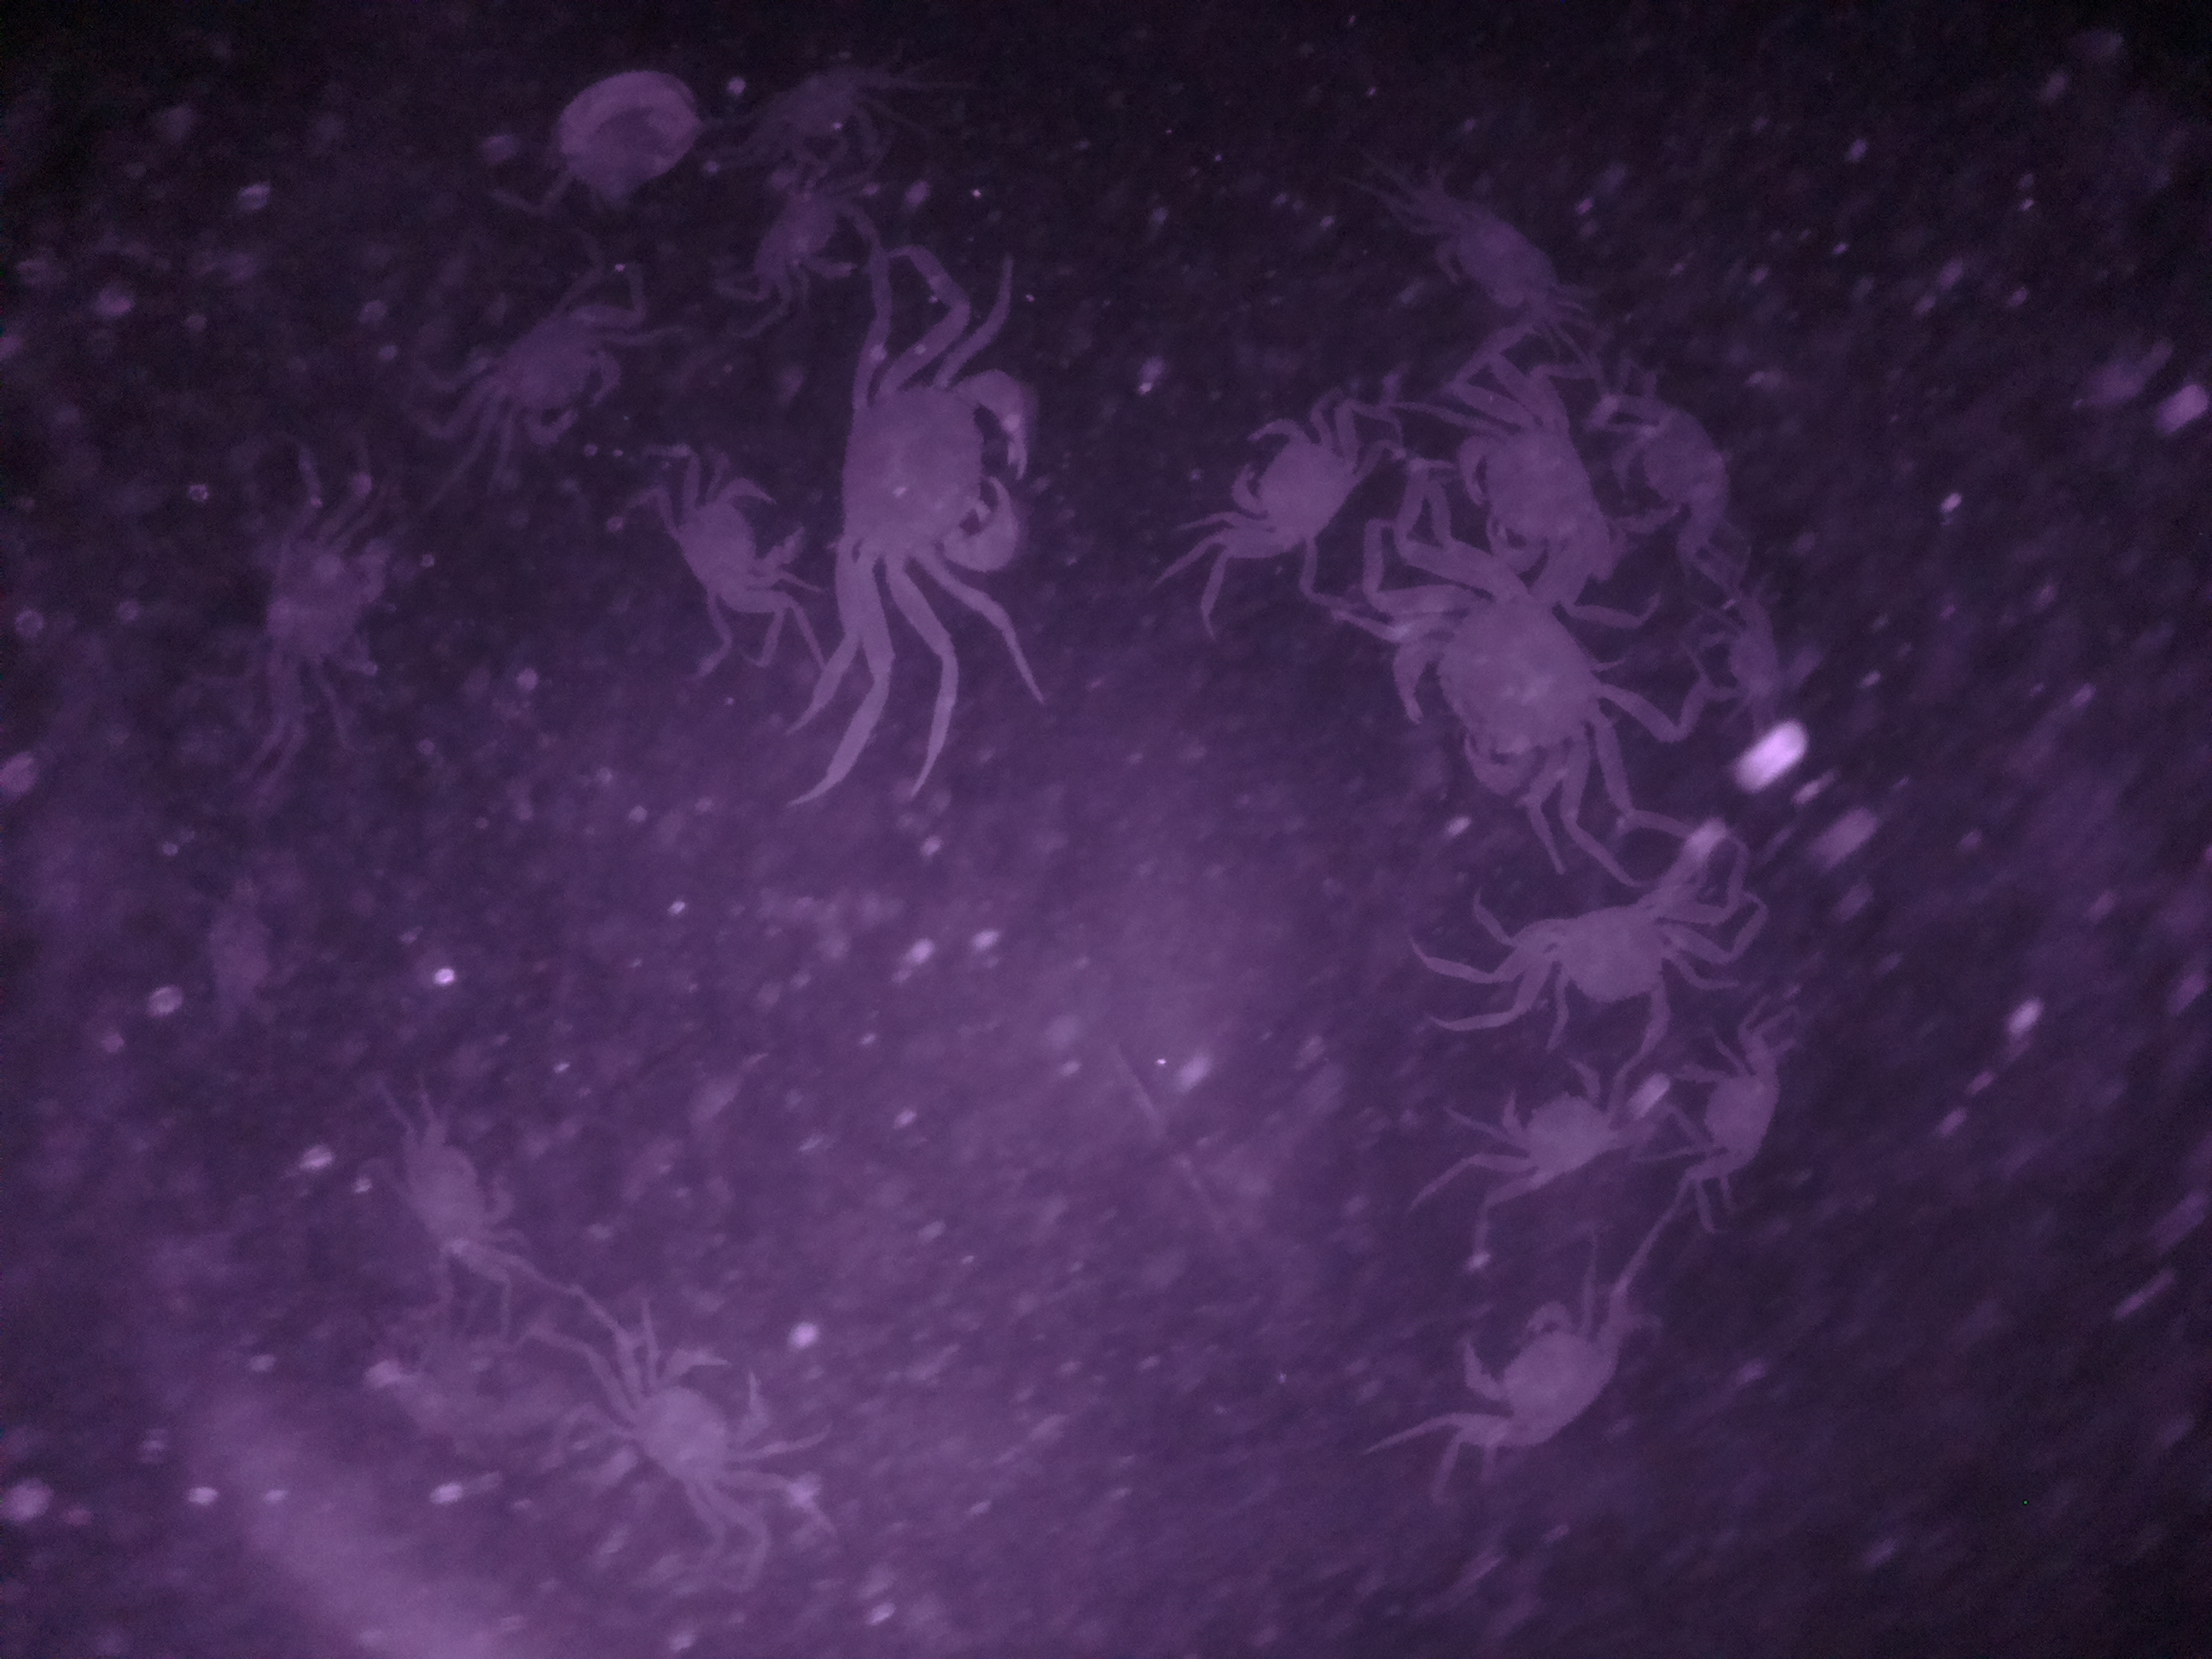Crab: (1383, 533, 1635, 823), (826, 342, 1055, 610), (618, 1305, 789, 1544), (1489, 875, 1695, 1044), (462, 282, 646, 462), (1200, 387, 1371, 579), (1409, 173, 1604, 331), (665, 451, 815, 653), (1437, 1290, 1616, 1457), (1465, 1066, 1627, 1199), (1665, 1033, 1787, 1199)
